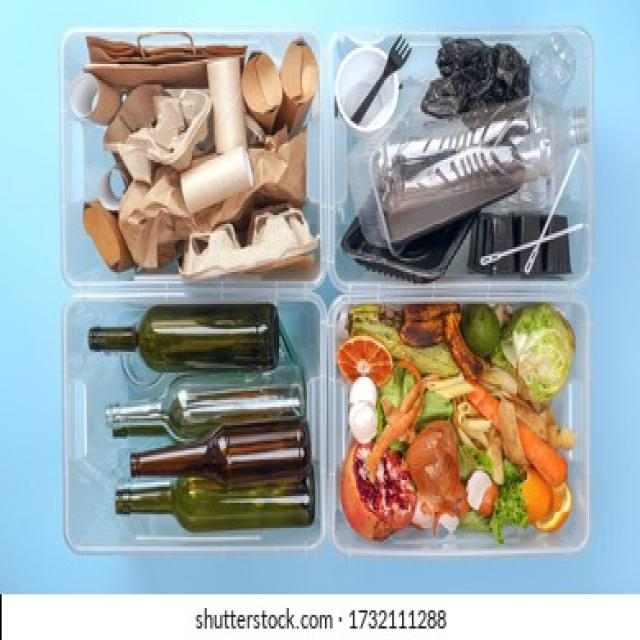cardboard: (74, 25, 307, 279)
glass: (105, 308, 305, 532)
plastic: (358, 55, 569, 274)
